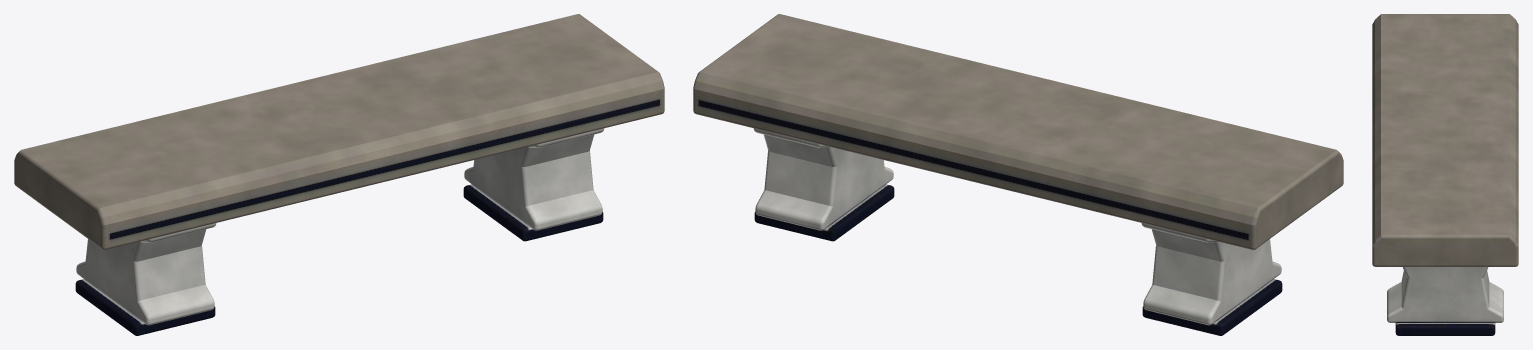
File: stone_bench.glb
The picture shows the model from 3 angles, left to right: view 1: azimuth 30°, elevation 25°; view 2: azimuth 150°, elevation 25°; view 3: azimuth 270°, elevation 25°; orthographic projection. The views are drawn at different scales.
Parts seen in each view (by area): view 1: stone_bench; view 2: stone_bench; view 3: stone_bench.
Part boxes in pixels (x1,y1,x2,y2): stone_bench: [14, 14, 664, 335]; stone_bench: [693, 14, 1343, 335]; stone_bench: [1372, 14, 1518, 335].
Bounding box in the file's own units: 1.8 × 0.45 × 0.5.
Materials: 1 (1 with a texture image).
